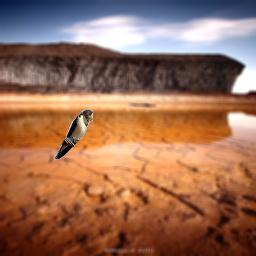Swallow: (54, 110, 94, 159)
